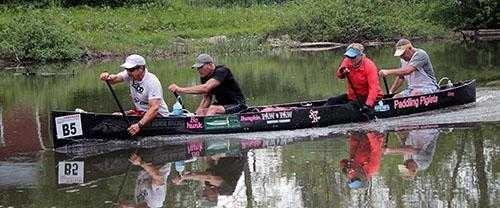kayak: (48, 85, 482, 138)
